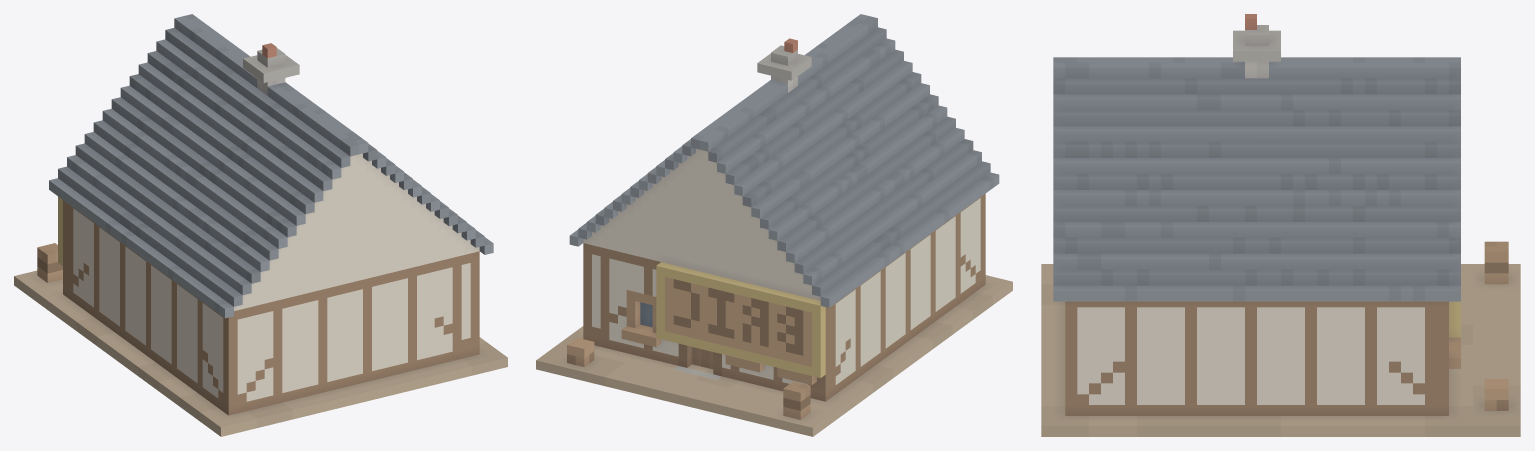
Rendered from brickworks.glb.
3 views of the same model, side by side, from view 1: azimuth 30°, elevation 25°; view 2: azimuth 150°, elevation 25°; view 3: azimuth 270°, elevation 25° (orthographic). The views are drawn at different scales.
Visible parts, largest first — view 1: brickworks; view 2: brickworks; view 3: brickworks.
Part boxes in pixels (<box>): brickworks: <box>14,14,507,436</box>; brickworks: <box>536,14,1012,436</box>; brickworks: <box>1041,14,1520,436</box>.
Size of the model in its own units: 4 by 3.88 by 5.
